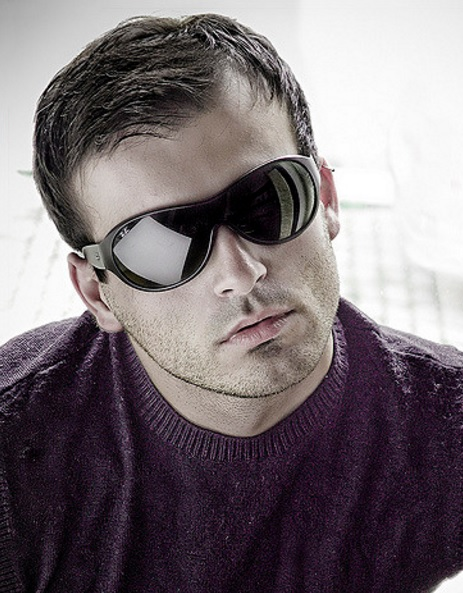sunglasses: (76, 155, 388, 291), (76, 155, 332, 291), (82, 155, 336, 285), (76, 155, 313, 291), (76, 155, 388, 244), (76, 155, 336, 231)
